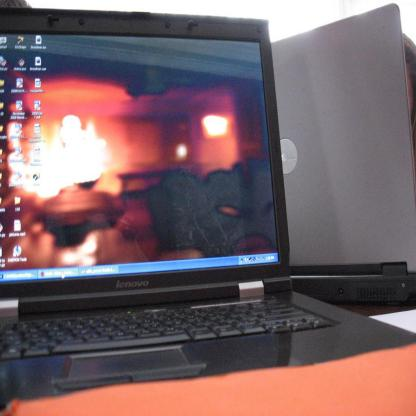board: (0, 0, 330, 415), (270, 4, 416, 303)
